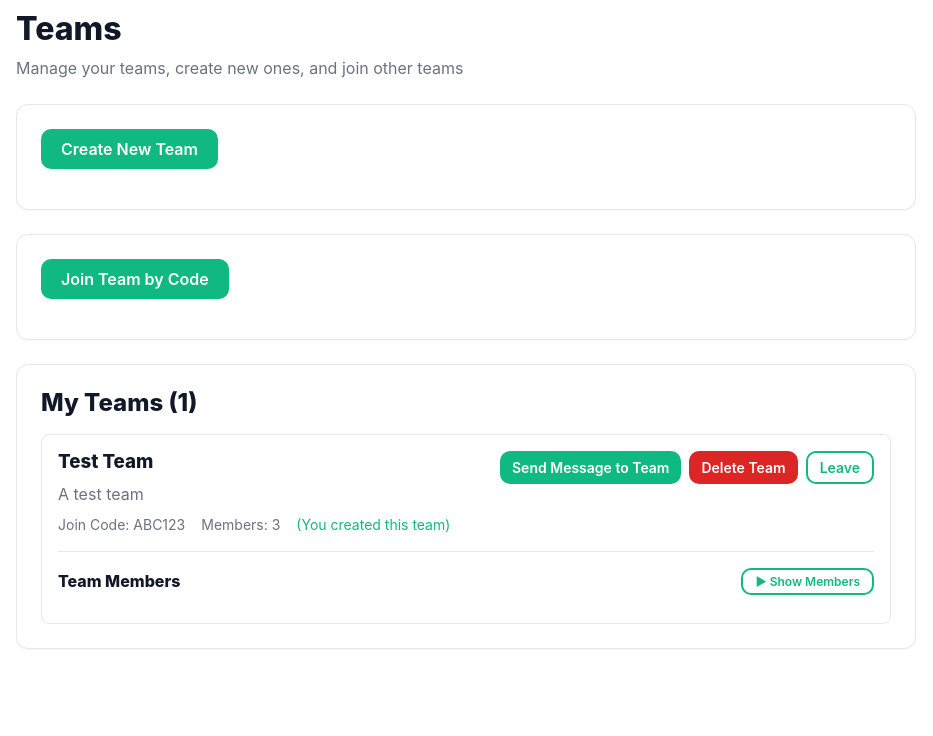
Test case: Team Deletion › successfully deletes team when user confirms
Expected: the heading "Test Team" is shown, x1=58 y1=450 x2=153 y2=473
Step 1. Click the button "Delete Team" → point(744, 468), box x1=690 y1=451 x2=798 y2=484
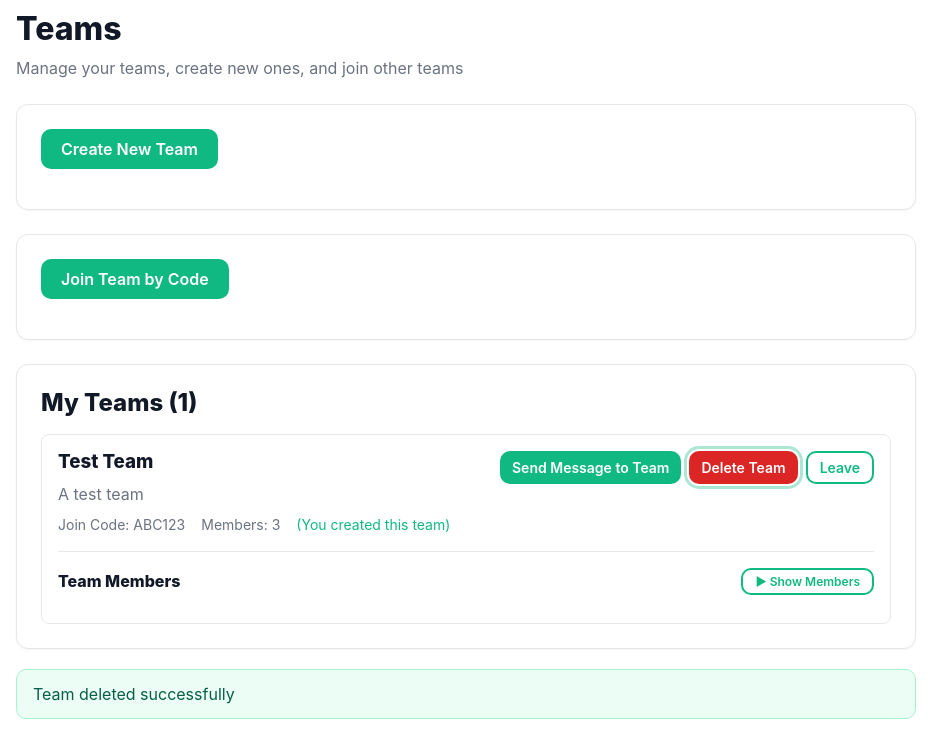
Expected: the text "Team deleted successfully" is shown, x1=16 y1=669 x2=916 y2=719
